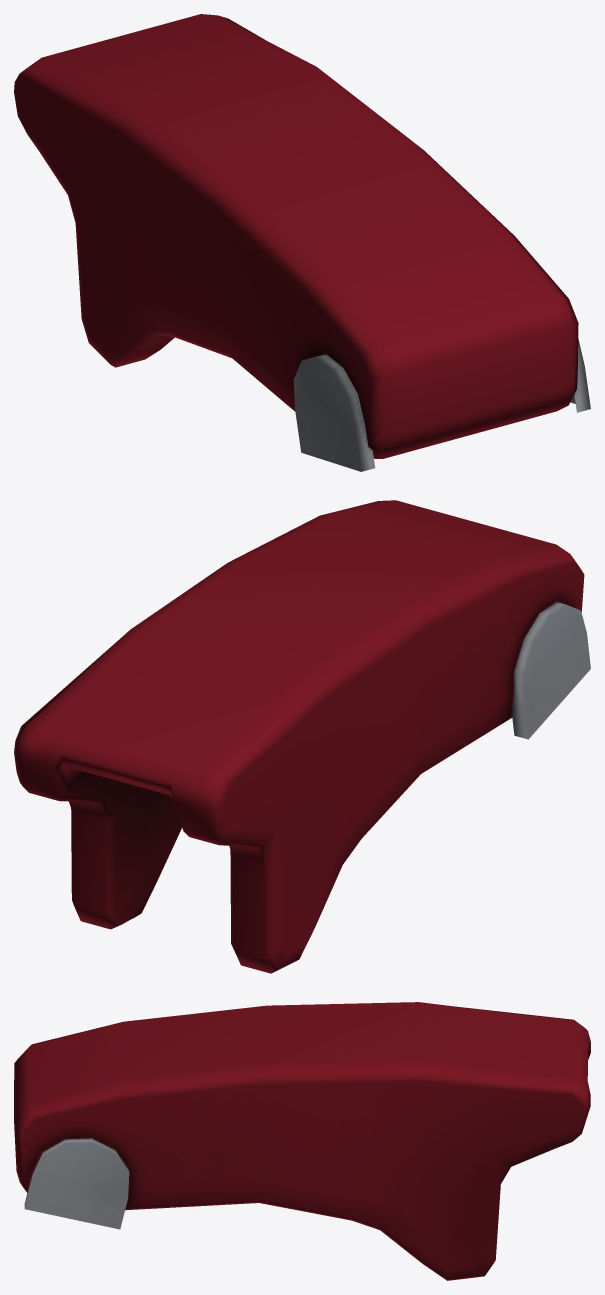
Rendered from Button Cover.fbx.
3 views of the same model, one above another, from view 1: azimuth 30°, elevation 25°; view 2: azimuth 150°, elevation 25°; view 3: azimuth 270°, elevation 25° (orthographic). The views are drawn at different scales.
Parts seen in each view (by area): view 1: Button_Cover; view 2: Button_Cover; view 3: Button_Cover.
Part boxes in pixels (x1=…): Button_Cover: x1=14, y1=14, x2=590, y2=471; Button_Cover: x1=14, y1=500, x2=590, y2=973; Button_Cover: x1=14, y1=1002, x2=590, y2=1280.
Size of the model in its own units: 3.18 by 3.62 by 8.7.
